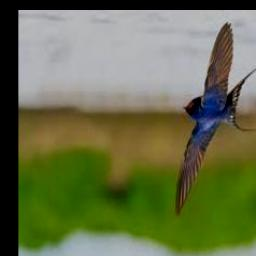Swallow: (176, 23, 256, 220)
